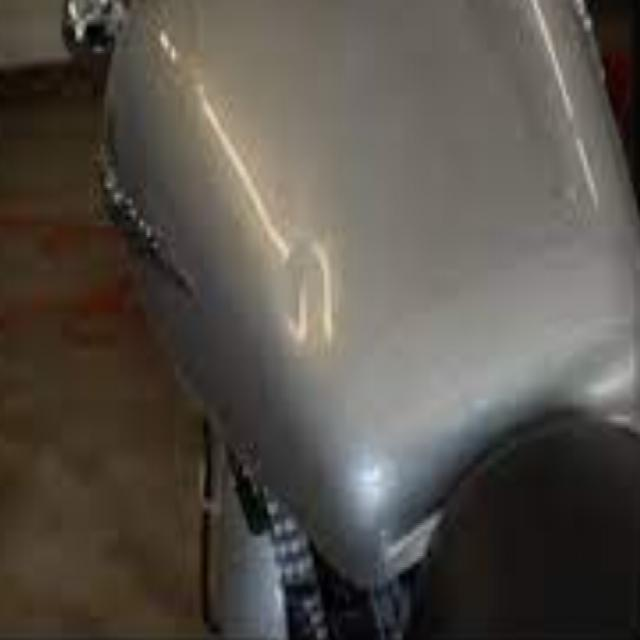dents: (282, 236, 359, 380)
